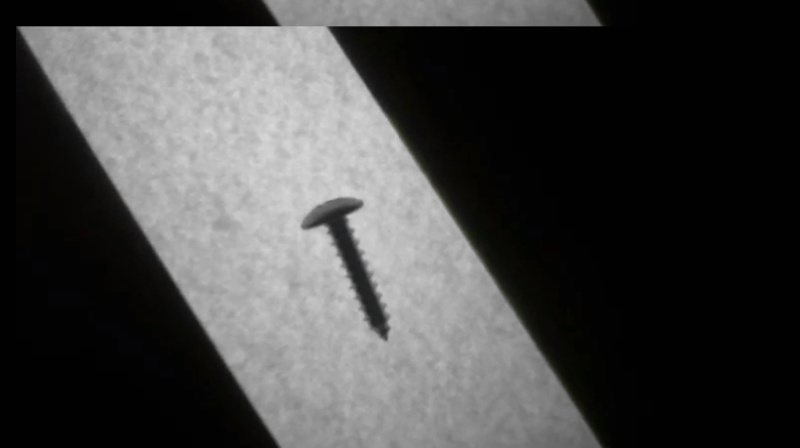S003: (298, 194, 392, 341)
